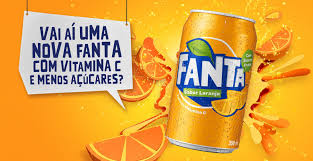fanta: (179, 10, 244, 151)
